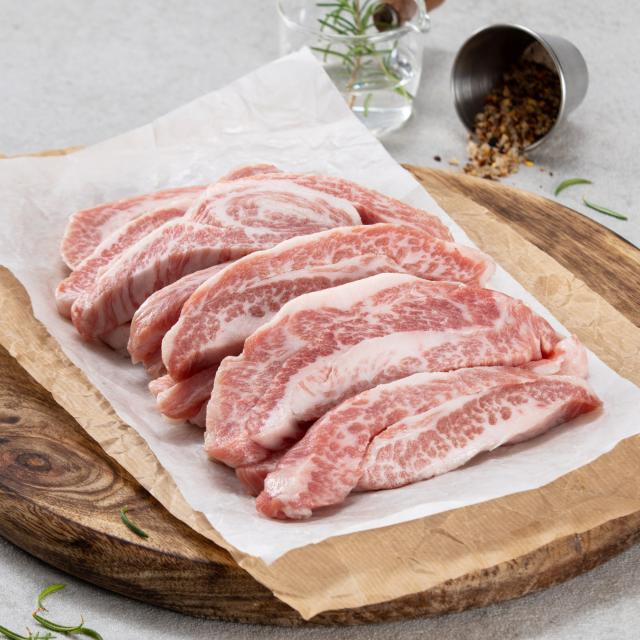--------: (54, 163, 605, 523), (203, 274, 607, 522)
